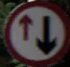Two way: (1, 5, 61, 53)
